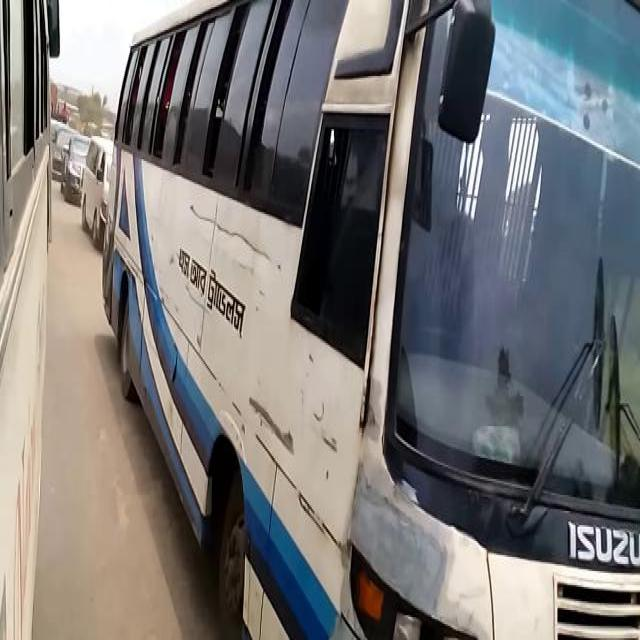bus: (97, 0, 638, 631), (2, 0, 53, 635)
car: (60, 133, 88, 200)
truck: (80, 134, 112, 248)
